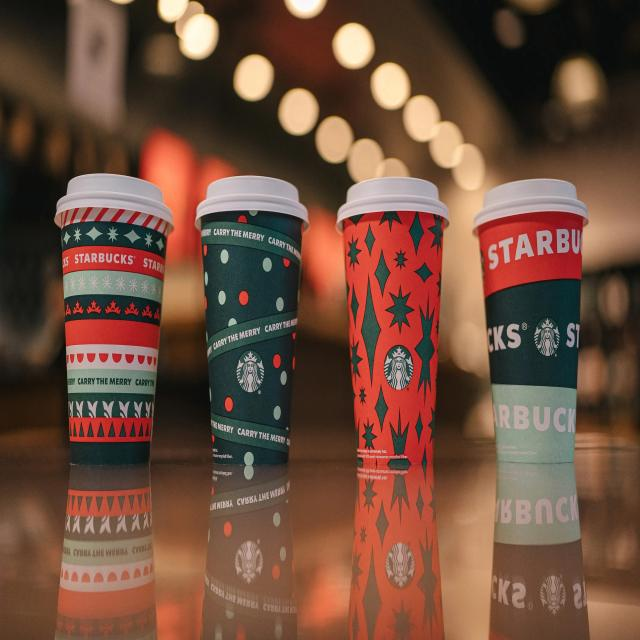starbucks: (236, 348, 268, 395), (385, 347, 414, 391), (532, 314, 560, 356)
